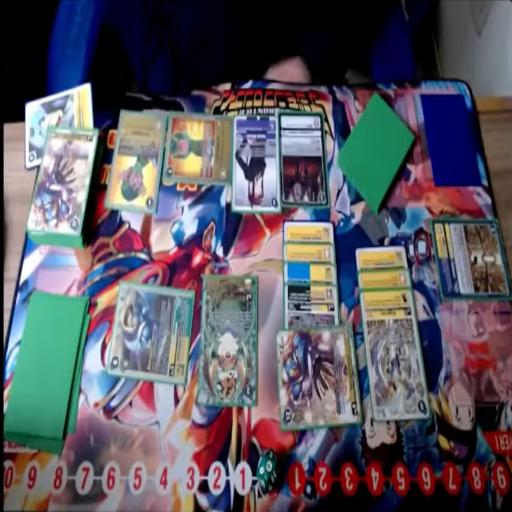card: (359, 286, 432, 423), (274, 326, 361, 432), (26, 124, 100, 238), (110, 282, 192, 384), (197, 277, 259, 409), (431, 216, 512, 304), (104, 107, 167, 215), (22, 80, 92, 169), (162, 110, 232, 188), (276, 110, 330, 210), (230, 115, 279, 216), (283, 284, 341, 342), (357, 265, 414, 300), (282, 259, 336, 295), (282, 242, 336, 276), (355, 244, 405, 278), (282, 220, 334, 252)
